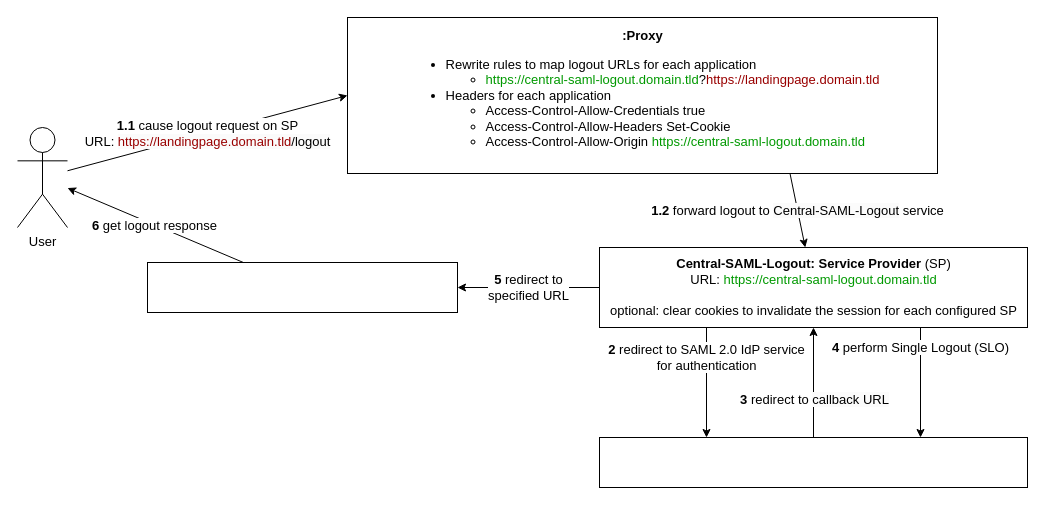
This 1045x505 diagram has some shape labels left out. Here are the shapes that lost their labels. From the top down, the centre of each, then its label:
[302,287]: Landing Page: Service Provider (SP) URL: https://l andingpage.domain.tld
[813,462]: :Identity Provider (IdP)
